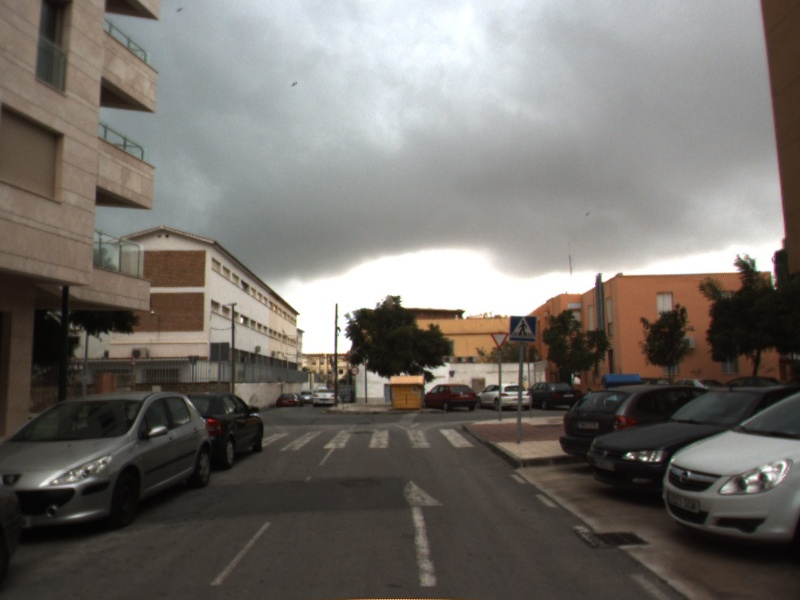STRAIGHT: (405, 478, 449, 589)
